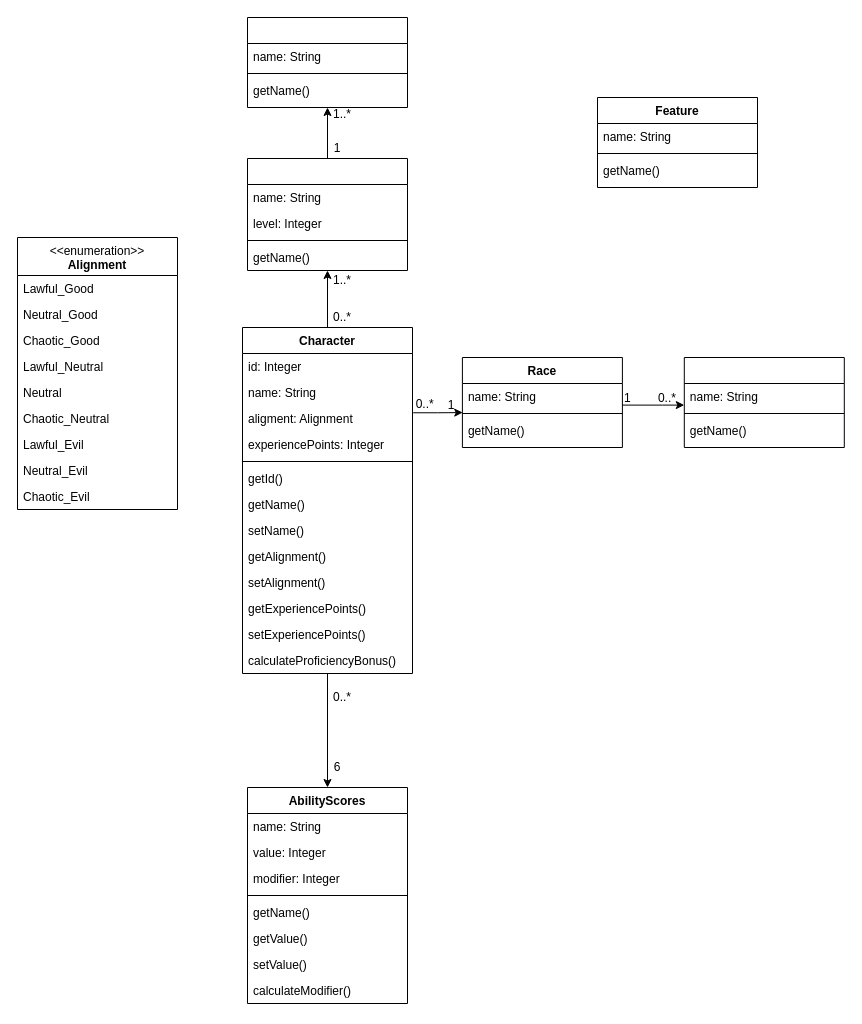
This 862x1024 diagram has some shape labels left out. Here are the shapes that lost their labels. From the top down, the box of each, then its label:
(246, 16, 408, 108): Subclass
(246, 158, 408, 270): Class
(683, 356, 844, 448): Subrace
